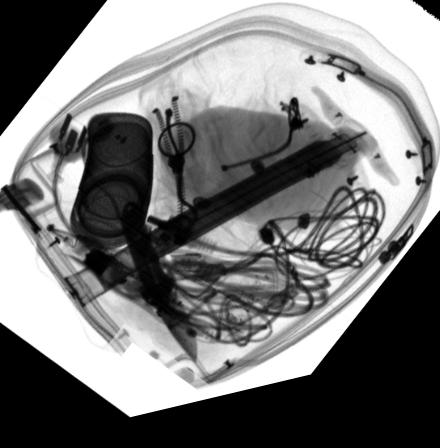Knife: (119, 206, 197, 373)
